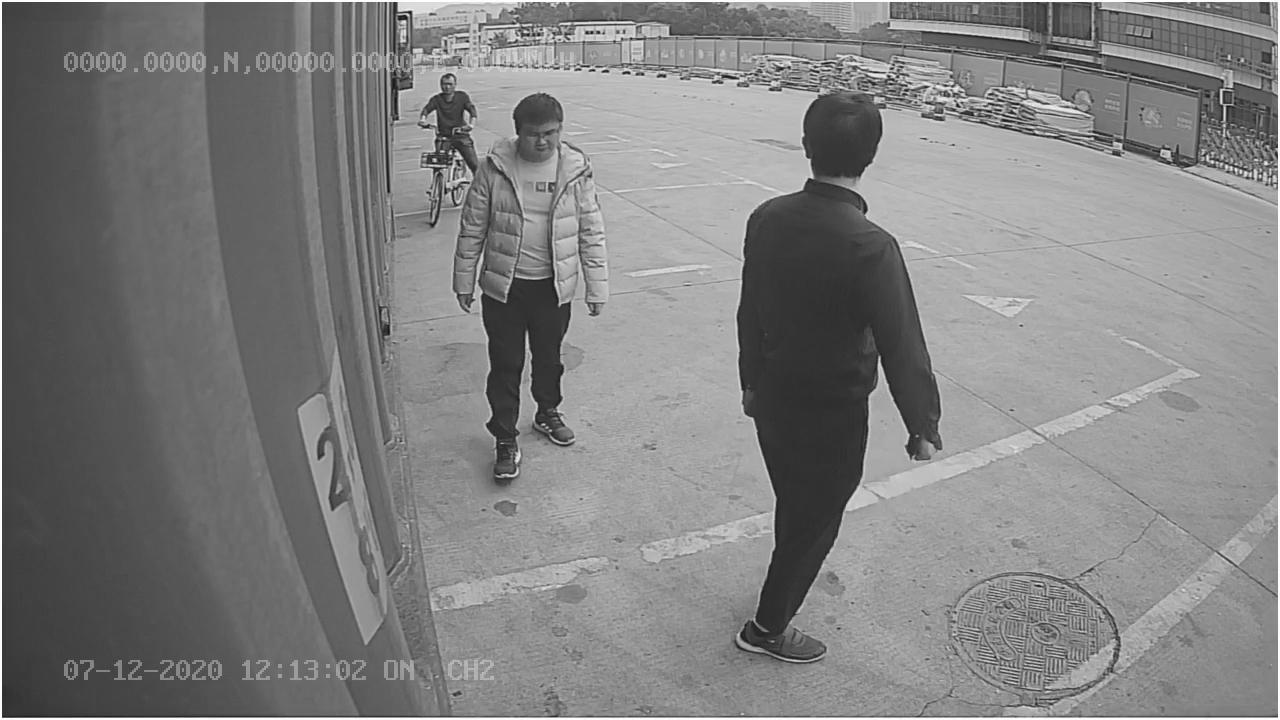person: (728, 85, 942, 663)
